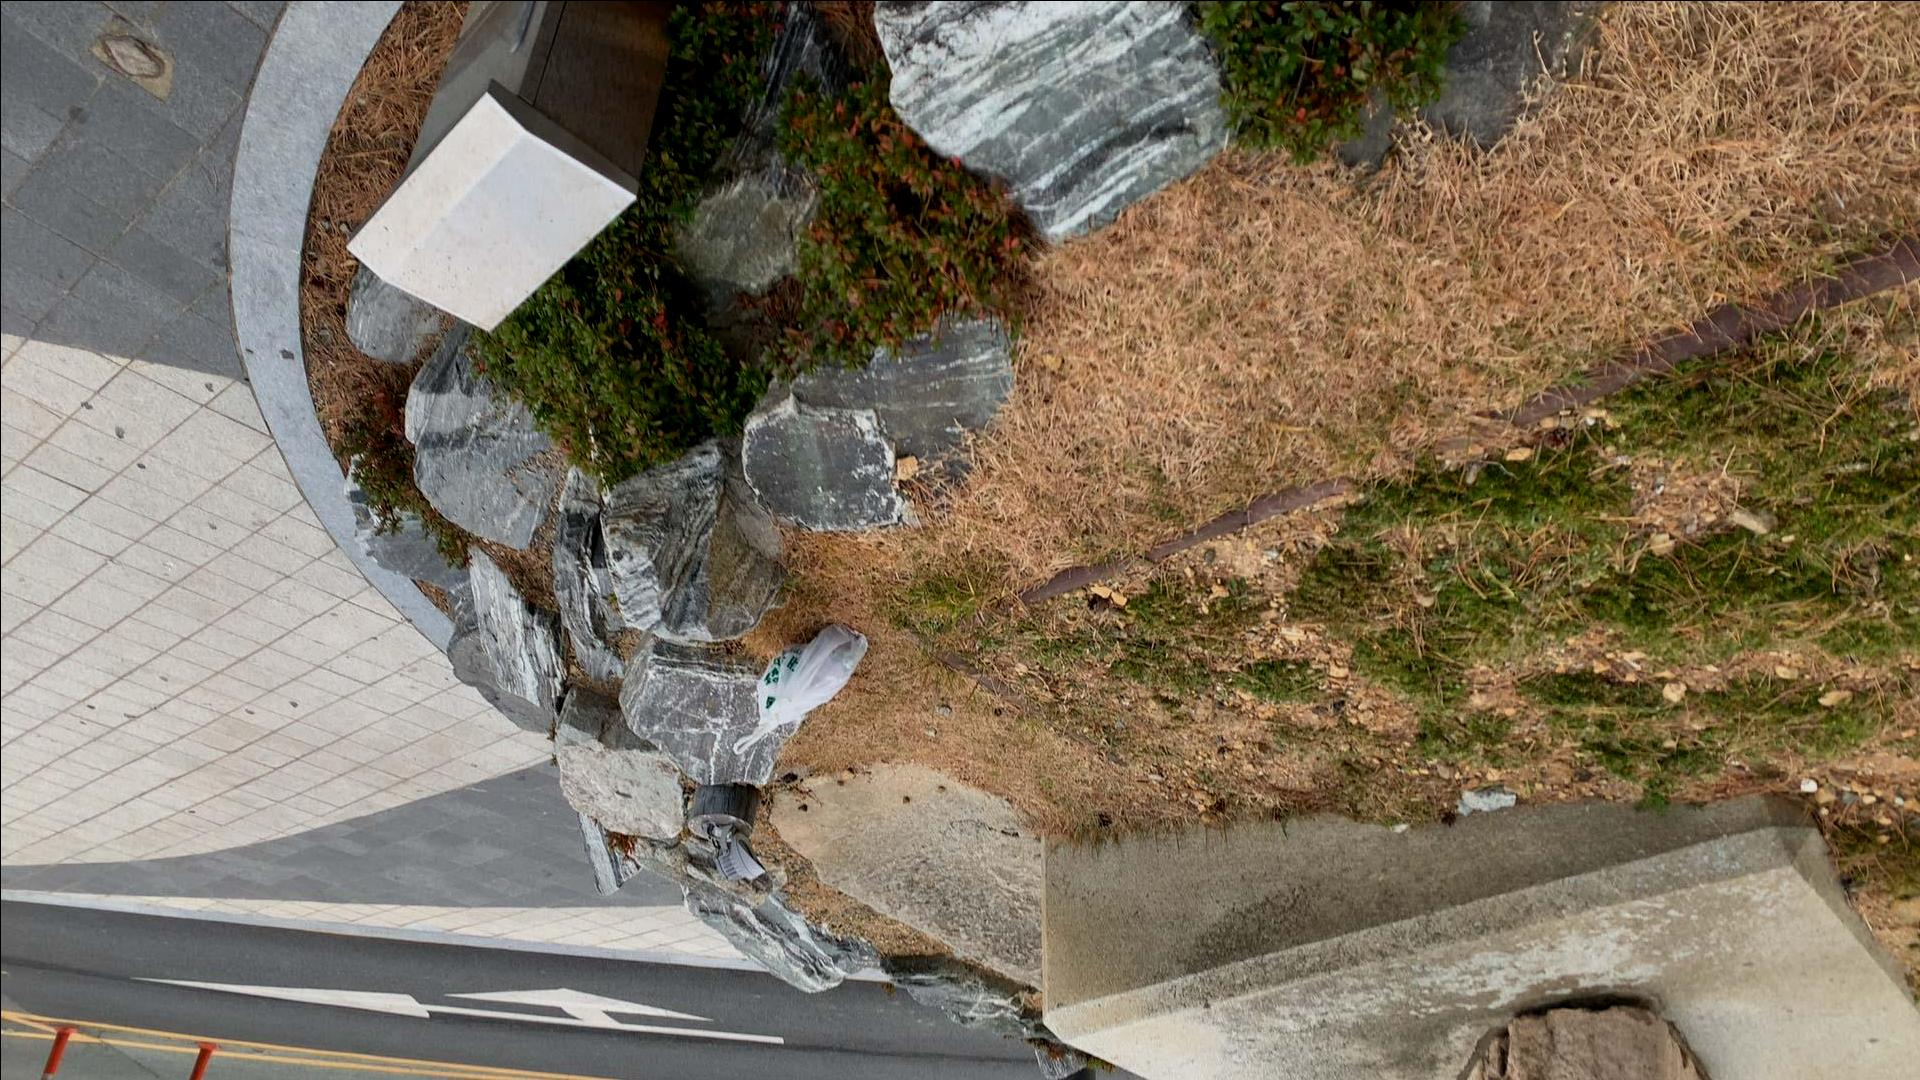white_bag: (729, 617, 868, 764)
